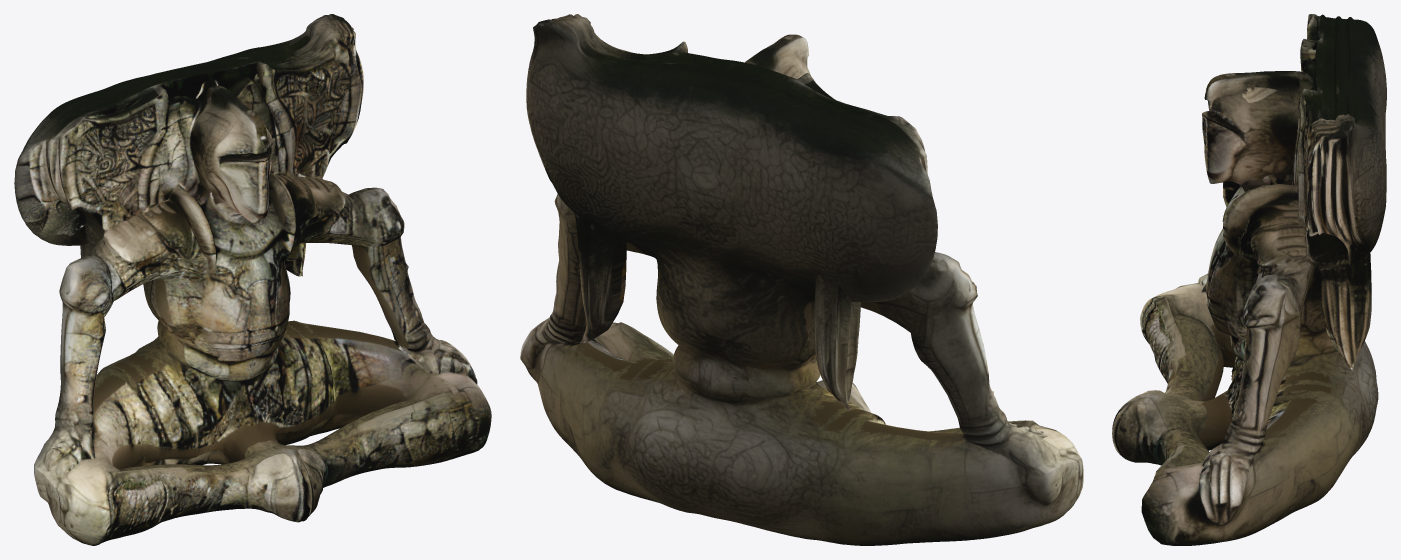
The model's file is Статуя 2.glb.
3 renders of one model, left to right at view 1: azimuth 30°, elevation 25°; view 2: azimuth 150°, elevation 25°; view 3: azimuth 270°, elevation 25°, orthographic. The views are drawn at different scales.
Parts seen in each view (by area): view 1: model; view 2: model; view 3: model.
Part boxes in pixels (x1,y1,x2,y2): model: (14, 14, 491, 545); model: (520, 14, 1083, 545); model: (1112, 14, 1386, 545).
Size of the model in its own units: 1.9 by 1.66 by 1.01.
1 material, 1 textured.
